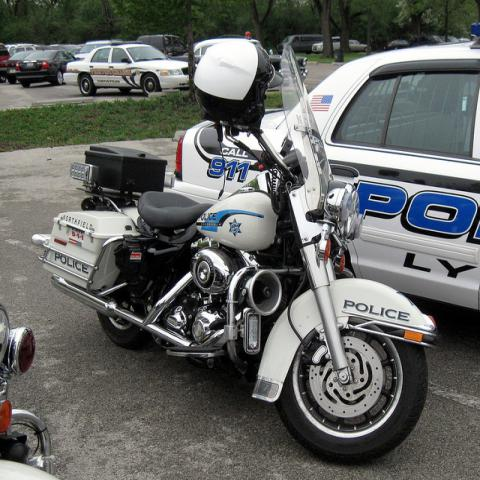car: (260, 23, 480, 312), (63, 40, 190, 95), (169, 31, 309, 80), (12, 50, 78, 88), (0, 51, 35, 84), (277, 34, 323, 55), (77, 39, 112, 62), (8, 46, 52, 57), (313, 36, 341, 52), (0, 43, 11, 83), (383, 39, 410, 51), (349, 40, 372, 51)
motorcycle: (28, 38, 442, 466), (2, 308, 58, 470)
